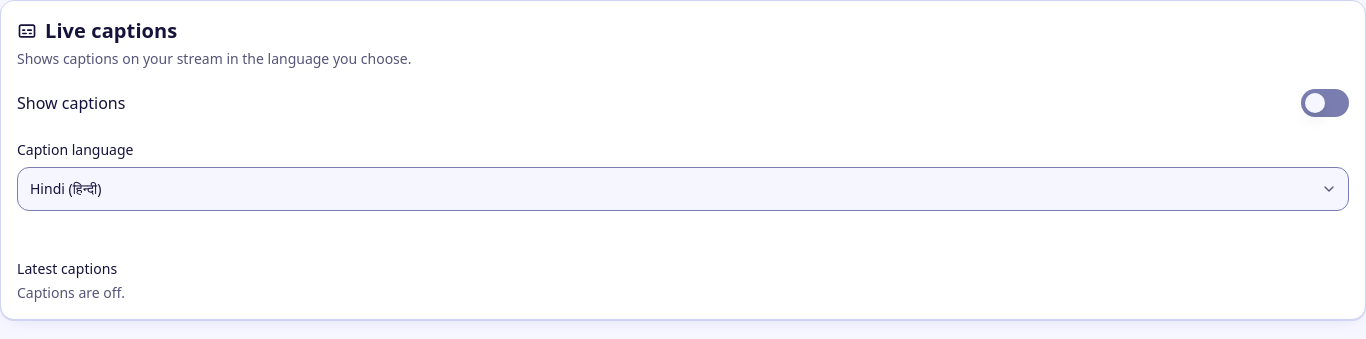
Test: CaptionsControl › sends one captions.enabled patch and shows Saved
Click the switch named "Show captions" at (1325, 103), box [1301,89,1349,117]
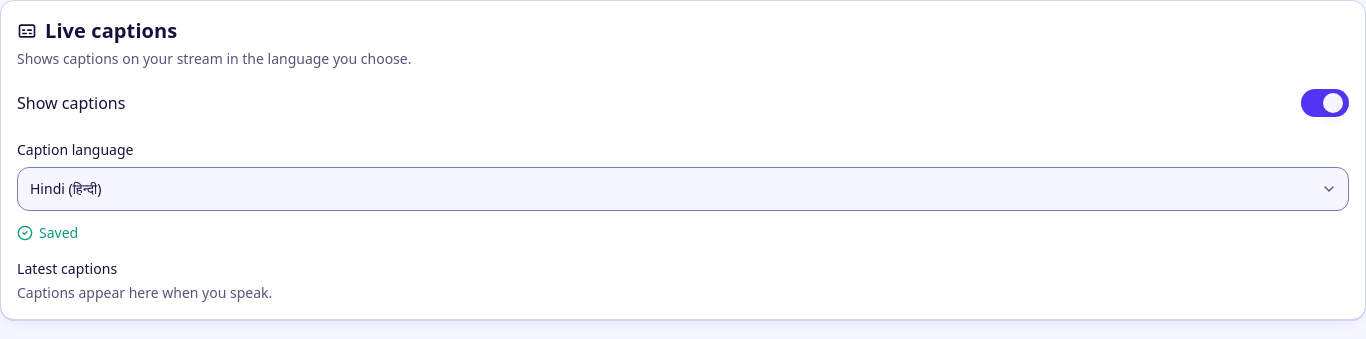
Expected: the text "Saved" is shown, [17,223,78,243]
